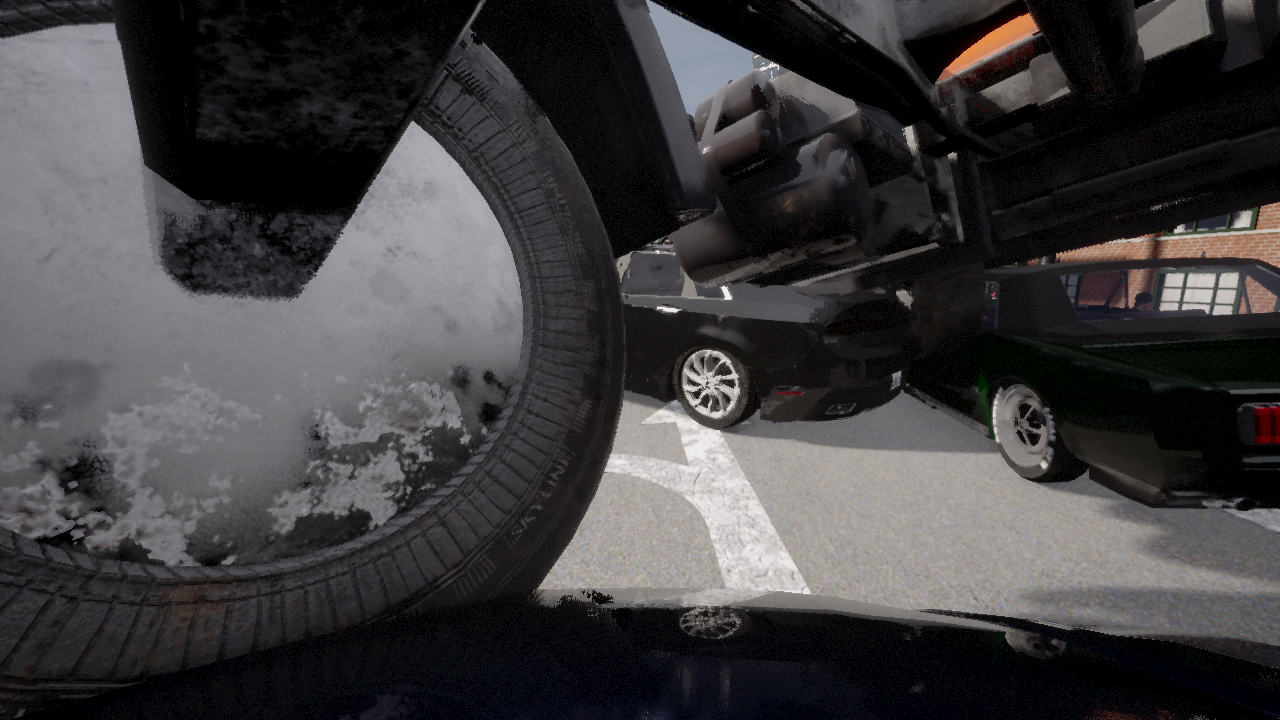cyclist: (9, 588, 1279, 719), (902, 258, 1279, 511), (615, 242, 909, 428), (658, 233, 671, 242)
